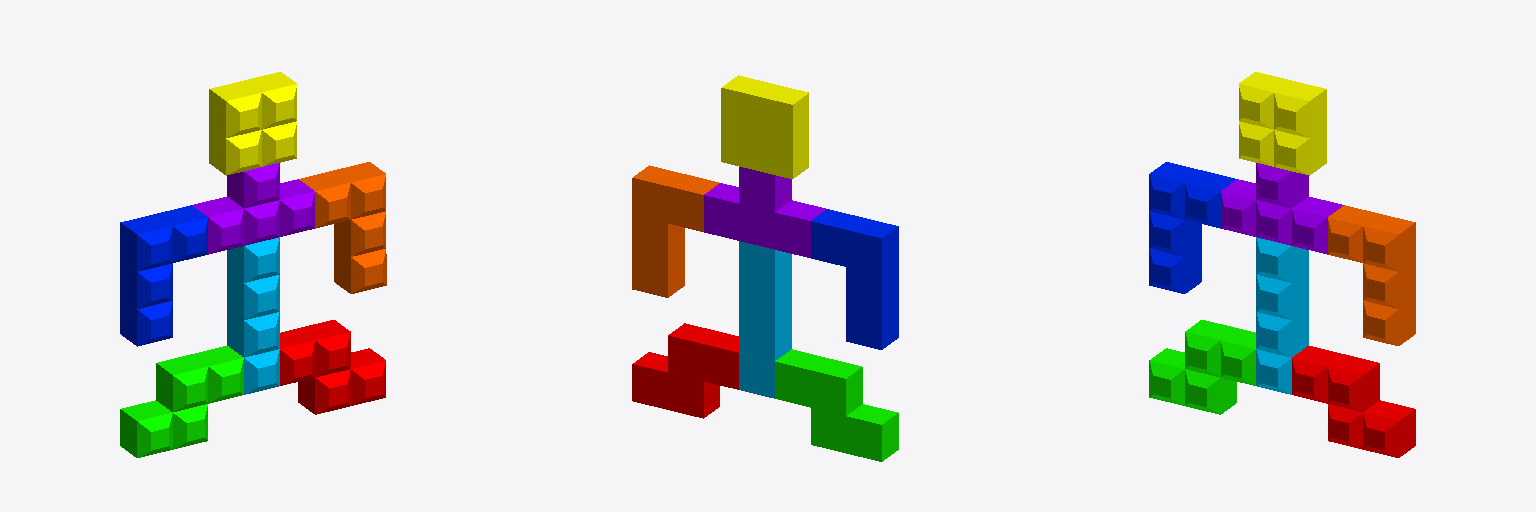
The model's file is TetrisMan.obj.
3 views of the same model, side by side, from view 1: azimuth 30°, elevation 25°; view 2: azimuth 150°, elevation 25°; view 3: azimuth 330°, elevation 25° (orthographic).
Visible parts, largest first — view 1: J_Right_UVed1, S_Right_Leg_UVed1, SquareHead_UVedS1, L_Left_UVed1, Z_Left_Leg_UVed1, LongSpine_UVed1, T_Middle_UVedS1; view 2: J_Right_UVed1, S_Right_Leg_UVed1, SquareHead_UVedS1, L_Left_UVed1, Z_Left_Leg_UVed1, LongSpine_UVed1, T_Middle_UVedS1; view 3: L_Left_UVed1, Z_Left_Leg_UVed1, SquareHead_UVedS1, J_Right_UVed1, S_Right_Leg_UVed1, LongSpine_UVed1, T_Middle_UVedS1.
Part boxes in pixels (bbox=[...]): J_Right_UVed1: bbox=[120, 205, 207, 346]; S_Right_Leg_UVed1: bbox=[120, 346, 243, 457]; SquareHead_UVedS1: bbox=[209, 72, 296, 175]; L_Left_UVed1: bbox=[299, 162, 386, 293]; Z_Left_Leg_UVed1: bbox=[280, 320, 385, 414]; LongSpine_UVed1: bbox=[227, 237, 279, 394]; T_Middle_UVedS1: bbox=[192, 163, 314, 254]; J_Right_UVed1: bbox=[811, 209, 898, 349]; S_Right_Leg_UVed1: bbox=[775, 349, 898, 461]; SquareHead_UVedS1: bbox=[721, 75, 808, 178]; L_Left_UVed1: bbox=[632, 165, 718, 297]; Z_Left_Leg_UVed1: bbox=[632, 323, 738, 418]; LongSpine_UVed1: bbox=[739, 241, 791, 398]; T_Middle_UVedS1: bbox=[704, 167, 825, 257]; L_Left_UVed1: bbox=[1328, 205, 1415, 345]; Z_Left_Leg_UVed1: bbox=[1292, 346, 1415, 457]; SquareHead_UVedS1: bbox=[1239, 72, 1326, 175]; J_Right_UVed1: bbox=[1149, 162, 1236, 293]; S_Right_Leg_UVed1: bbox=[1149, 320, 1255, 414]; LongSpine_UVed1: bbox=[1256, 237, 1308, 394]; T_Middle_UVedS1: bbox=[1221, 163, 1343, 254].
Bounding box in the file's own units: 7 × 9 × 1.07.